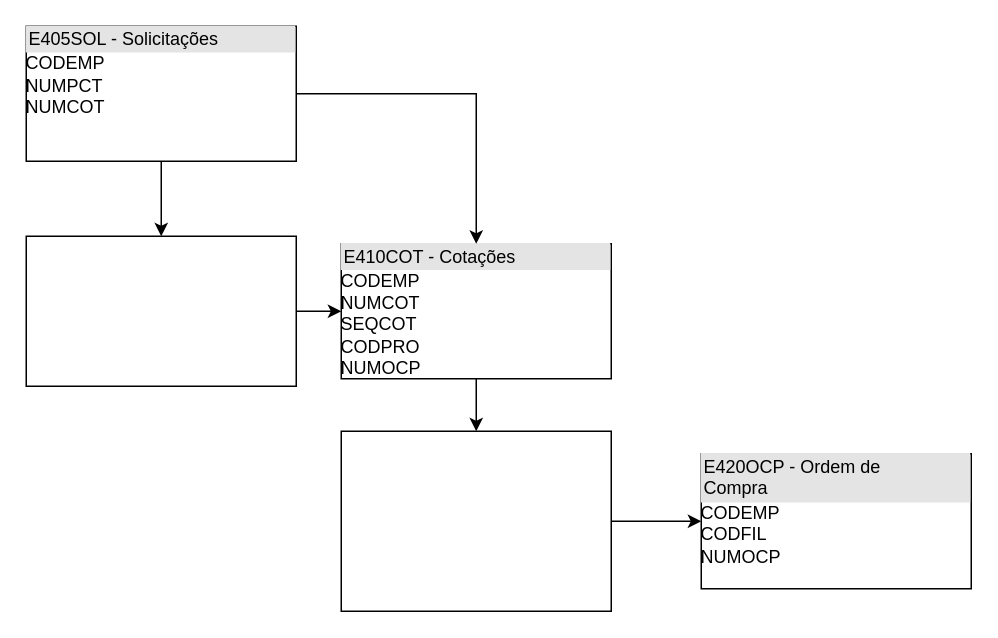
The diagram is 998 pixels wide and 638 high, and some of its shapes have lost their labels. The shapes that lost their labels are listed below. From the top down, each one's box as (x1, y1, x2, y2) in pixels, then its label:
(25, 235, 296, 386): E410PCT - Processo de Cotações CODEMP NUMPCT
(340, 430, 611, 611): E410LCO - Ligação OC CODEMP NUMCOT NUMOCP FILOCP SEQCOT SEQIPO SEQISO
